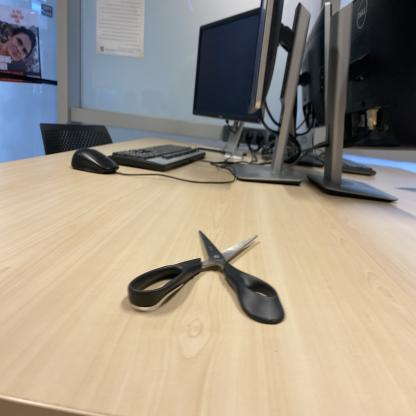scissors: (125, 227, 286, 325)
